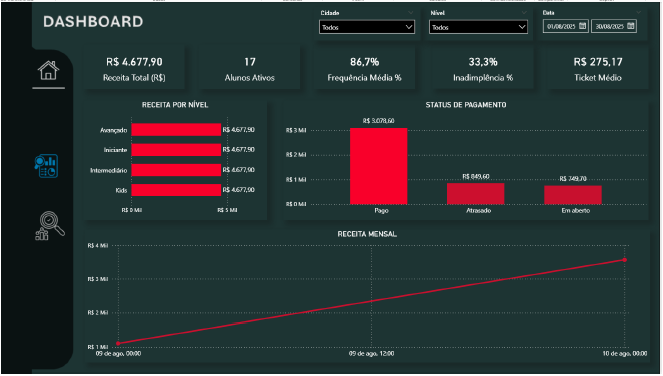

Layout of this report page (visuals, bound fields, positions):
{"tool":"powerbi","page":{"name":"Página 1","canvas":[1280,720],"ordinal":1},"visuals":[{"type":"card","fields":{"Values":["medidas (2).Receita Total"]},"box":[162,82.2,196.3,85.9],"z":0},{"type":"card","fields":{"Values":["medidas (2).Alunos Ativos"]},"box":[385.3,82.2,196.3,85.9],"z":1000},{"type":"card","fields":{"Values":["medidas (2).Frequência Média %"]},"box":[608.6,82.2,196.3,85.9],"z":2000},{"type":"card","fields":{"Values":["medidas (2).Inadimplência %"]},"box":[838.2,82.5,196.2,85.1],"z":3000},{"type":"card","fields":{"Values":["medidas (2).Ticket Médio"]},"box":[1061.4,82.2,196.3,85.9],"z":4000},{"type":"lineChart","title":"RECEITA MENSAL","fields":{"Y":["medidas (2).Receita Total (R$)"],"Category":["vw_dim_tempo.Data.Variation.Hierarquia de datas.Ano","vw_dim_tempo.Data.Variation.Hierarquia de datas.Mês","vw_dim_tempo.Data.Variation.Hierarquia de datas.Dia"]},"box":[164.4,440.5,1095.7,255.2],"z":5000},{"type":"barChart","title":"RECEITA POR NÍVEL ","fields":{"Category":["vw_dim_turma.Nível"],"Y":["medidas (2).Receita Total (R$)"]},"box":[162,190.2,355.8,230.7],"z":6000},{"type":"lineClusteredColumnComboChart","title":"STATUS DE PAGAMENTO","fields":{"Category":["vw_fato_financeiro.Status Pagamento"],"Y":["medidas (2).Receita Total (R$)"]},"box":[548.5,190.2,709.2,230.7],"z":7000},{"type":"slicer","fields":{"Values":["vw_dim_tempo.Data"]},"box":[1039.3,9.5,216,65],"z":8000},{"type":"slicer","fields":{"Values":["vw_dim_aluno.Cidade"]},"box":[608.6,9.5,206.1,65],"z":9000},{"type":"slicer","fields":{"Values":["vw_fato_matriculas.Nível"]},"box":[822.1,9.5,212.3,65],"z":10000},{"type":"actionButton","box":[63.8,105.5,62.6,52.8],"z":11000},{"type":"actionButton","box":[65,400,62.6,65],"z":12000}]}

Visuals, with their boxes in screenshot pixels (x1, y1, x2, y2), scaled from the page's 1280x720 canvas onto the 663x376 screenshot:
card - medidas (2).Receita Total: bbox=[84, 43, 186, 88]
card - medidas (2).Alunos Ativos: bbox=[200, 43, 301, 88]
card - medidas (2).Frequência Média %: bbox=[315, 43, 417, 88]
card - medidas (2).Inadimplência %: bbox=[434, 43, 536, 88]
card - medidas (2).Ticket Médio: bbox=[550, 43, 651, 88]
"RECEITA MENSAL" lineChart: bbox=[85, 230, 653, 363]
"RECEITA POR NÍVEL " barChart: bbox=[84, 99, 268, 220]
"STATUS DE PAGAMENTO" lineClusteredColumnComboChart: bbox=[284, 99, 651, 220]
slicer - vw_dim_tempo.Data: bbox=[538, 5, 650, 39]
slicer - vw_dim_aluno.Cidade: bbox=[315, 5, 422, 39]
slicer - vw_fato_matriculas.Nível: bbox=[426, 5, 536, 39]
actionButton: bbox=[33, 55, 65, 83]
actionButton: bbox=[34, 209, 66, 243]
